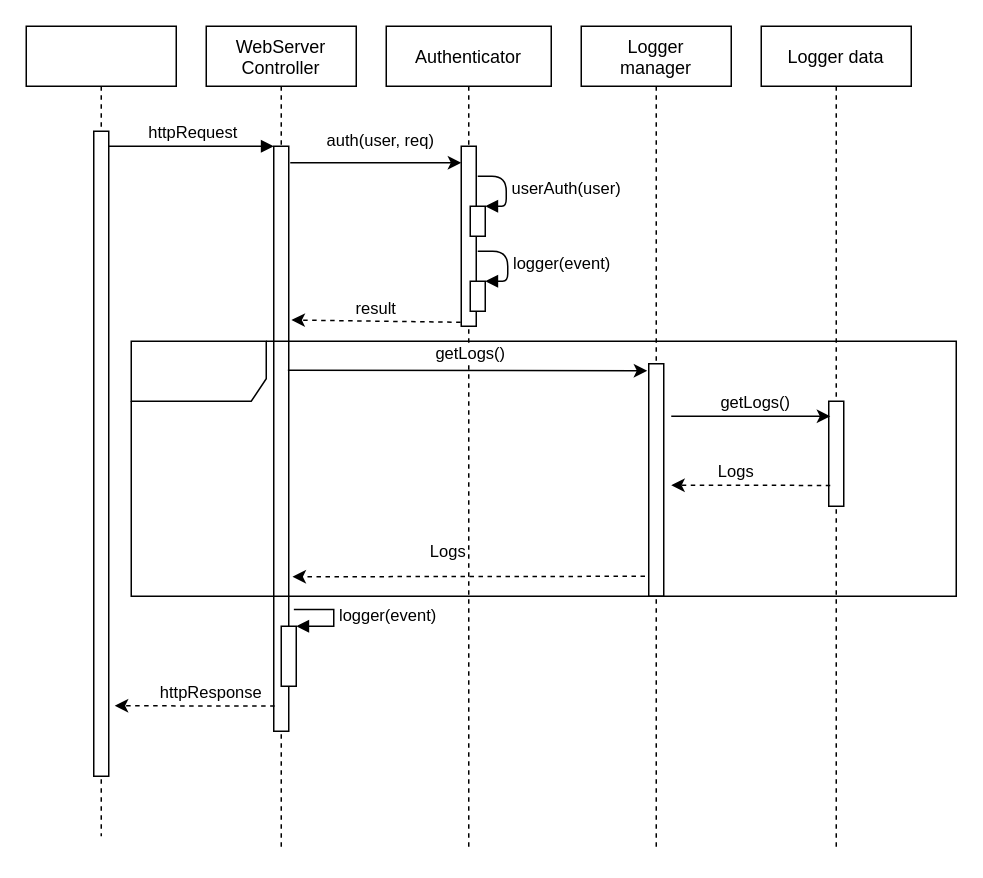
Image size: 983x878. Some labels were removed from this diagram. The box of each missing label's shape, as (x1, y1, x2, y2) in pixels:
if user can make request: (130, 340, 956, 596)
User/Admin: (25, 25, 176, 836)
